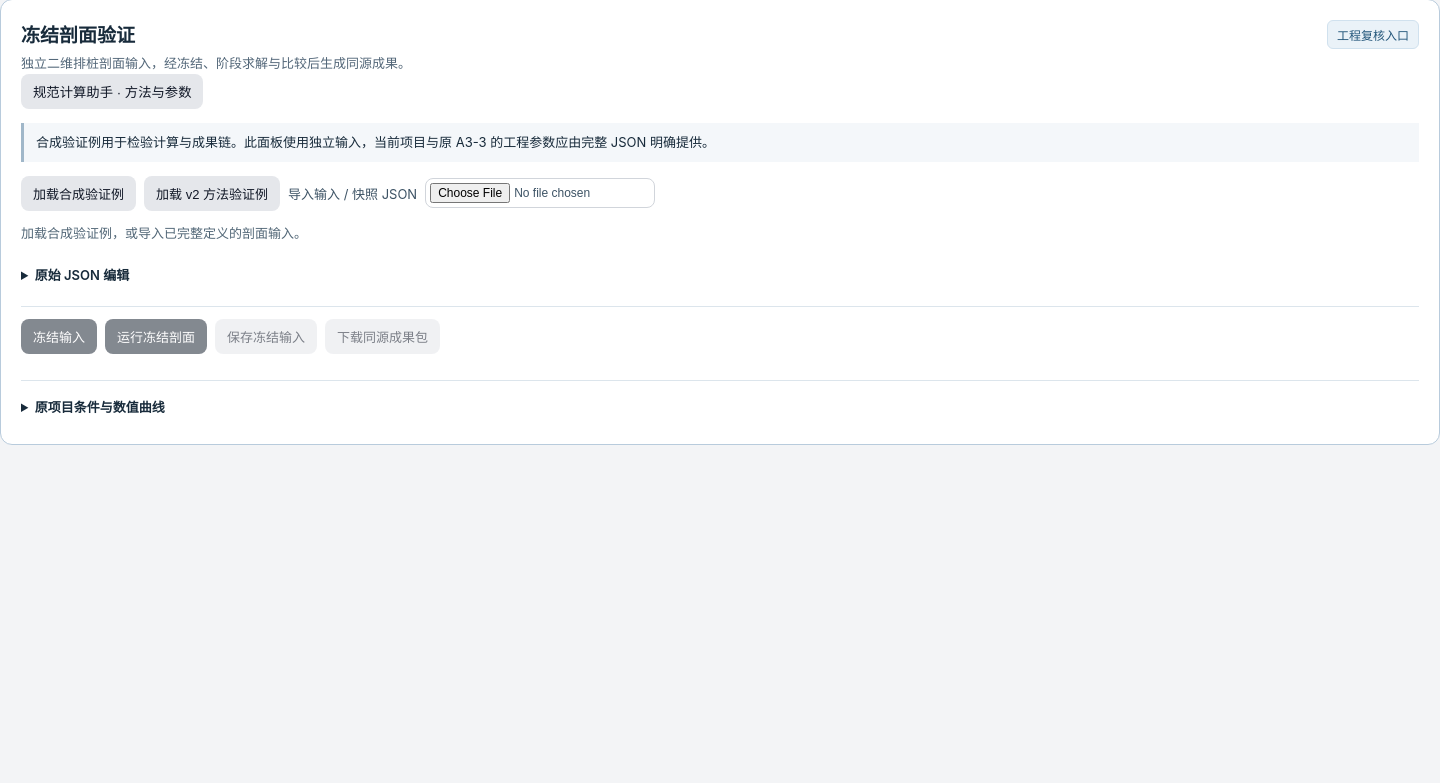
Test: FrozenSectionPanel › keeps missing and null values uncalculated and does not replace them with zeros
The image size is (1440, 783).
What coordinates should you click on to do the following:
click the button "加载合成验证例"
I would click on:
 (78, 193)
Its box is [21,176,136,211].
(page scrolled)
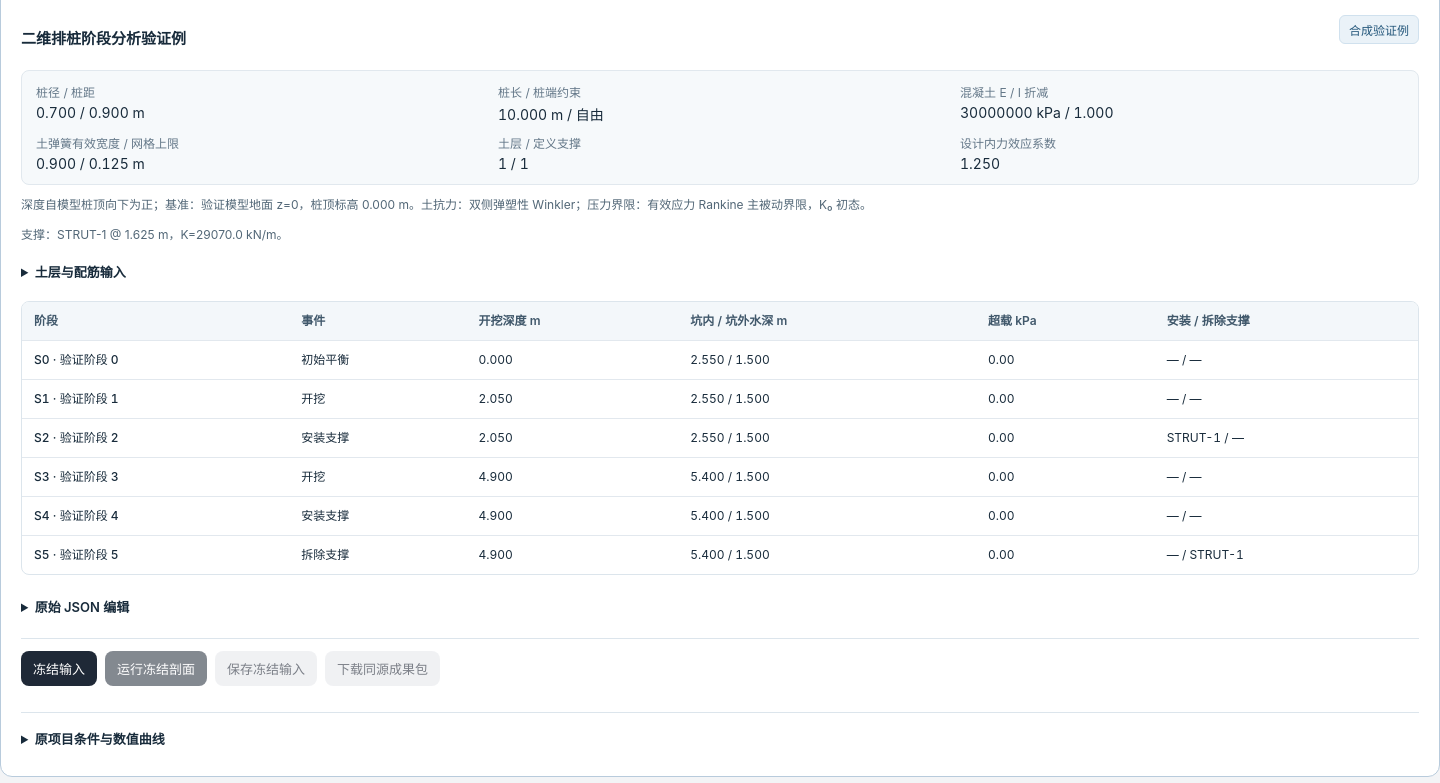
Check: the heading "二维排桩阶段分析验证例" is shown, box [21,27,186,48]
What coordinates should you click on to do the following:
click the button "冻结输入"
I would click on:
 (59, 668)
Its box is [21,651,97,686].
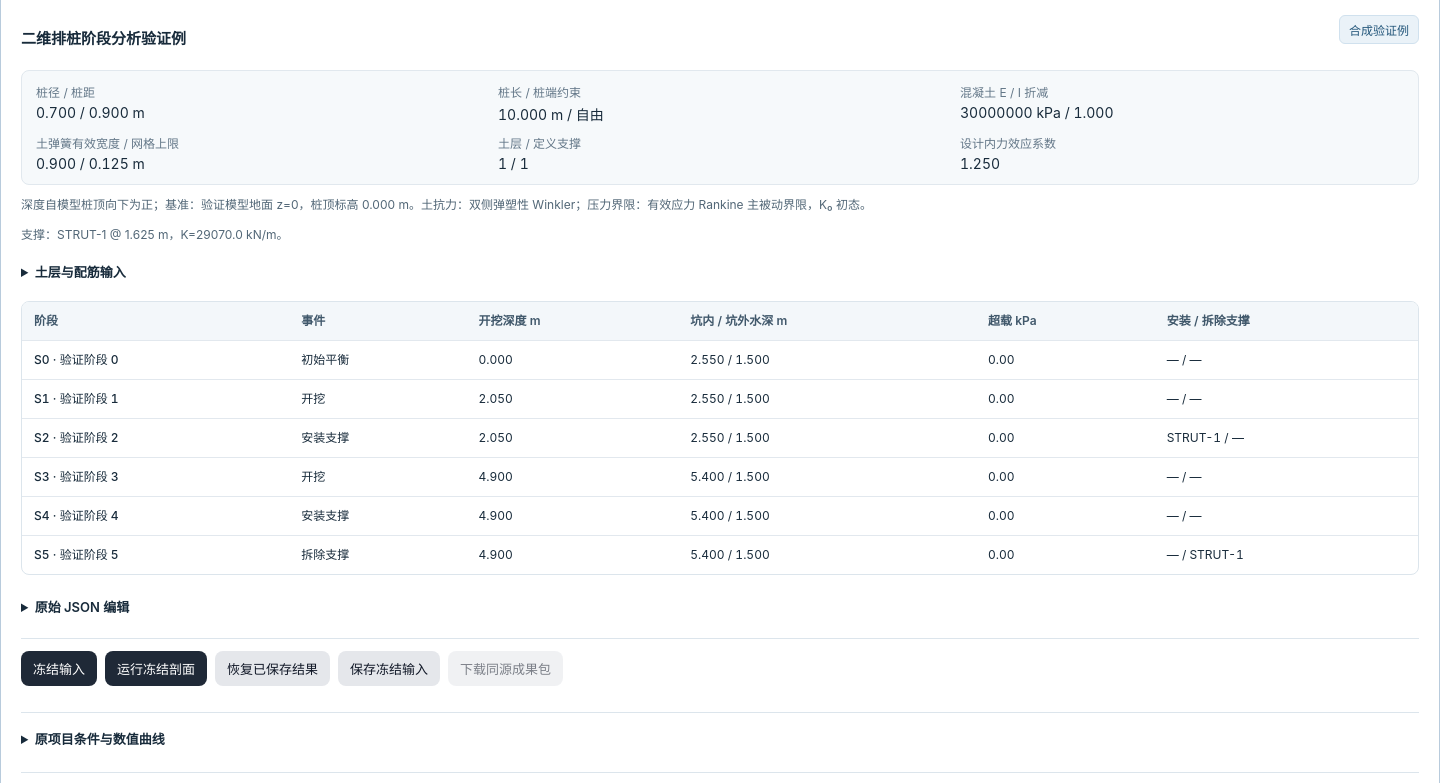
Check: the button "运行冻结剖面" is enabled
What coordinates should you click on to do the following:
click the button "运行冻结剖面"
I would click on:
 (156, 668)
Its box is [105,651,207,686].
(page scrolled)
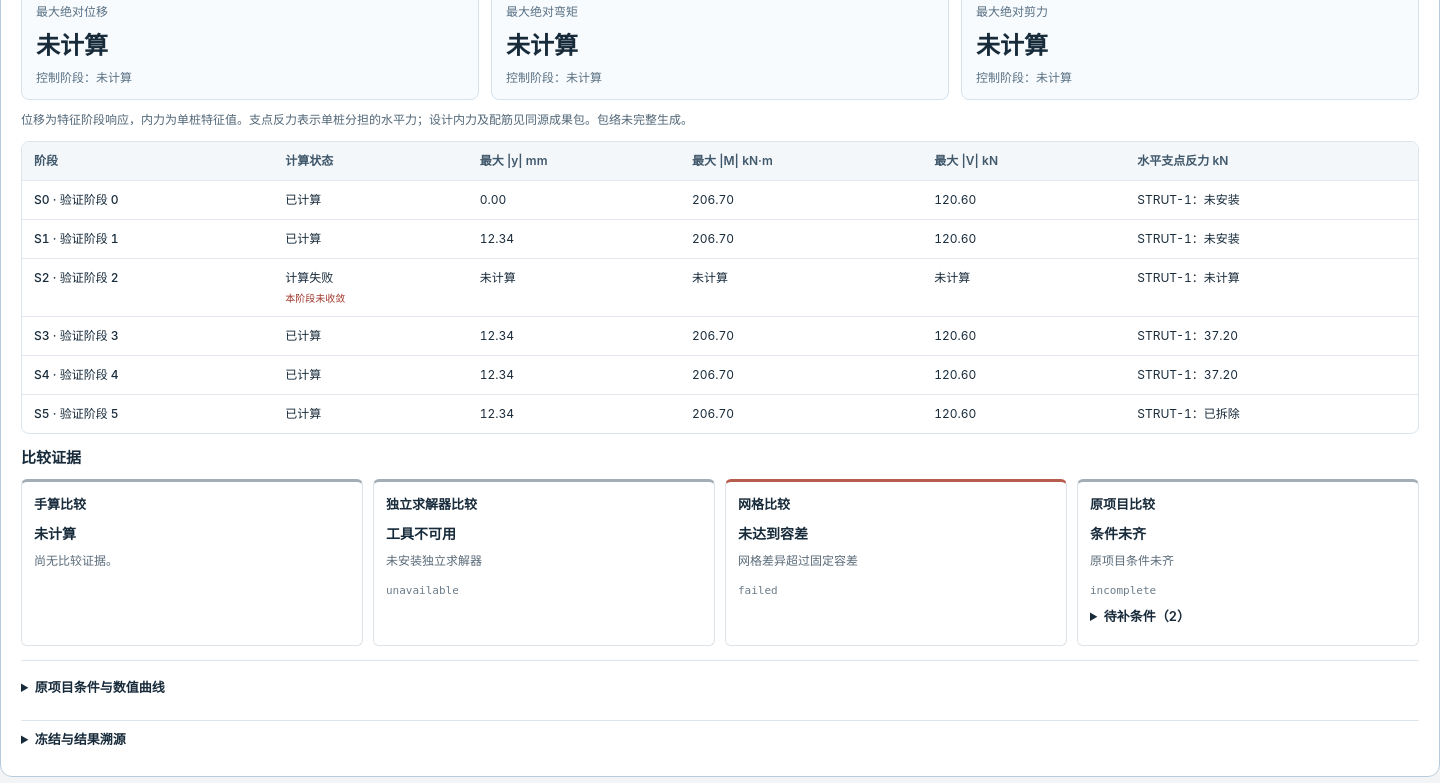
Check: the text "本阶段未收敛" is shown, box [285,292,345,304]
Check: the text "未计算" below "最大绝对位移" is shown, box [36,31,108,60]
Check: the text "未计算" below "最大绝对弯矩" is shown, box [506,31,578,60]
